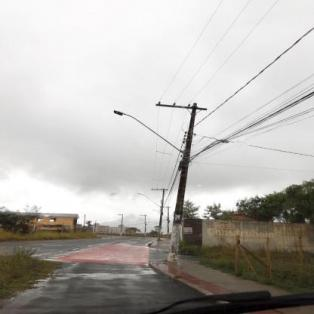Poste: (163, 101, 200, 264)
